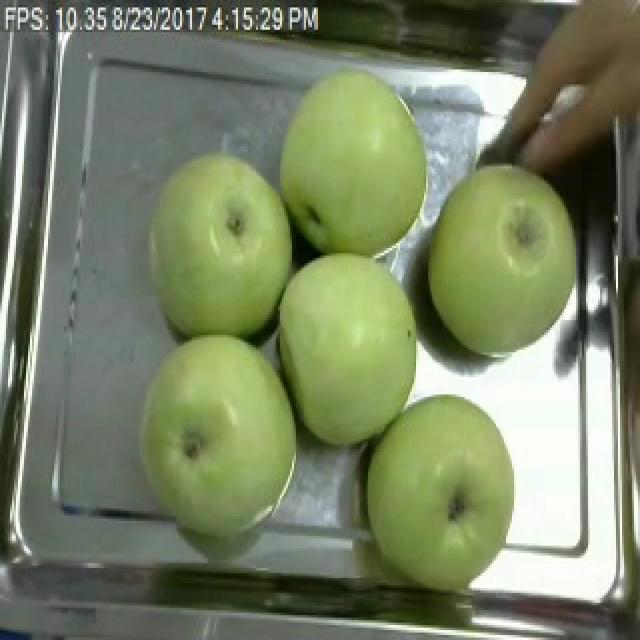50-_ripeness: (146, 344, 292, 556), (370, 397, 522, 599), (440, 160, 582, 366), (143, 148, 300, 334), (275, 61, 430, 242), (277, 253, 417, 444)
